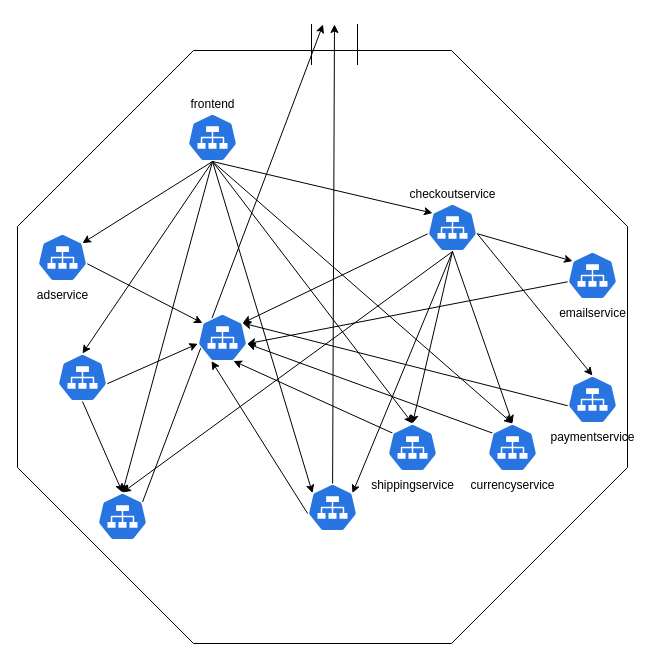
The diagram is 652 pixels wide and 661 high, and some of its shapes have lost their labels. The shapes that lost their labels are listed below. From the top down, each one's centre as x and y in pixels, then its label:
the point at 222,337: loggingservice
the point at 82,377: recommendationservice
the point at 122,516: productcatalogservice
the point at 332,507: cartservice
